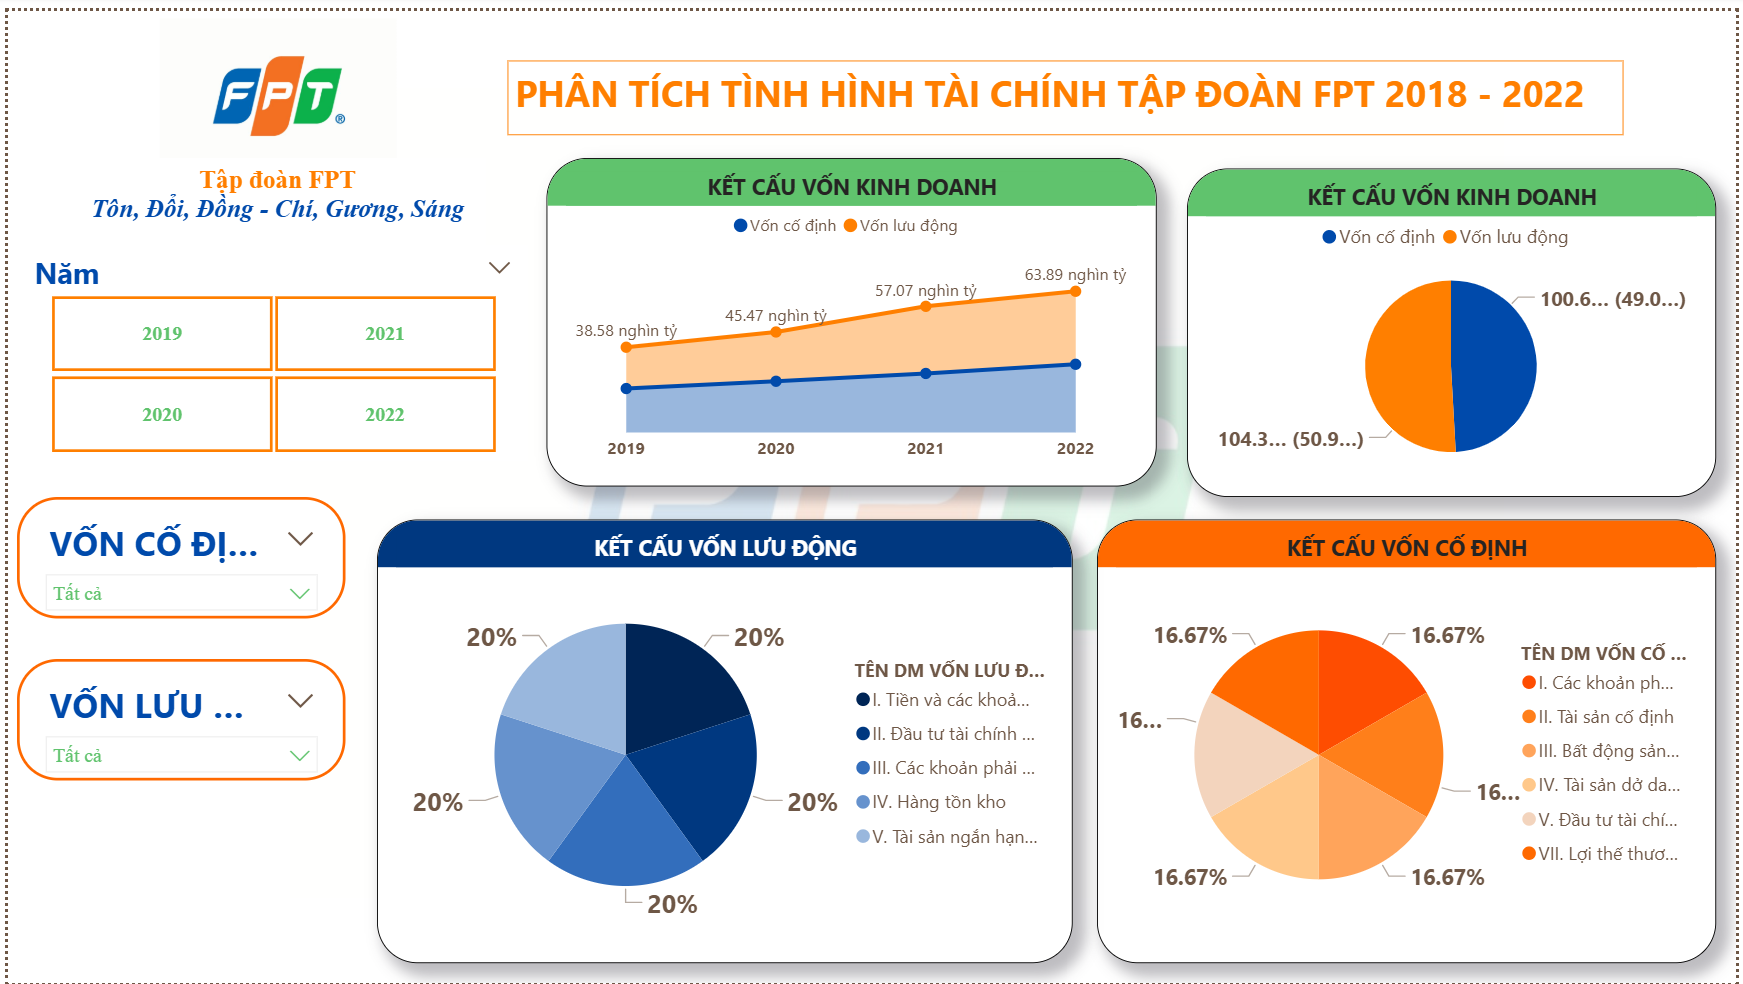

The dashboard page shown, as its layout file describes it:
{"tool":"powerbi","page":{"name":"Kết cấu","canvas":[1280,720],"ordinal":4},"visuals":[{"type":"stackedAreaChart","title":"KẾT CẤU VỐN KINH DOANH","fields":{"Category":["HQSDVKD.Năm"],"Y":["Sum(HQSDVCD.Vốn cố định bình quân)","Sum(HQSDVLD.Vốn lưu động bình quân)"]},"box":[398.3,108.3,451.7,243.3],"z":0},{"type":"image","box":[74.6,0,250.8,127.1],"z":1000},{"type":"textbox","box":[45.8,108.5,308.5,64.4],"z":2000},{"type":"pieChart","title":"KẾT CẤU VỐN KINH DOANH","fields":{"Y":["Sum(HQSDVCD.Vốn cố định bình quân)","Sum(HQSDVLD.Vốn lưu động bình quân)"]},"box":[873.3,116.7,391.7,243.3],"z":3000},{"type":"pieChart","title":"KẾT CẤU VỐN CỐ ĐỊNH","fields":{"Y":["Sum(HQSDVCD.Vốn cố định bình quân)"],"Category":["DMVONCODINH.TÊN DM VỐN CỐ ĐỊNH"]},"box":[806.7,376.7,458.3,328.3],"z":4000},{"type":"slicer","fields":{"Values":["HQSDVLD.Năm"]},"box":[6.7,173.3,378.3,160],"z":5000},{"type":"textbox","box":[370,36.7,826.7,55],"z":6000},{"type":"pieChart","title":"KẾT CẤU VỐN LƯU ĐỘNG","fields":{"Y":["Sum(HQSDVLD.Vốn lưu động bình quân)"],"Category":["DMVONLUUDONG.TÊN DM VỐN LƯU ĐỘNG"]},"box":[273.3,376.7,515,328.3],"z":7000},{"type":"slicer","fields":{"Values":["DMVONCODINH.TÊN DM VỐN CỐ ĐỊNH"]},"box":[6.7,360,243.3,90],"z":8000},{"type":"slicer","fields":{"Values":["DMVONLUUDONG.TÊN DM VỐN LƯU ĐỘNG"]},"box":[6.7,480,243.3,90],"z":9000}]}

Visuals, with their boxes in screenshot pixels (x1, y1, x2, y2), scaled from the page's 1280x720 canvas onto the 1743x984 screenshot:
"KẾT CẤU VỐN KINH DOANH" stackedAreaChart: bbox=(542, 148, 1157, 481)
image: bbox=(102, 0, 443, 174)
textbox: bbox=(62, 148, 482, 236)
"KẾT CẤU VỐN KINH DOANH" pieChart: bbox=(1189, 159, 1723, 492)
"KẾT CẤU VỐN CỐ ĐỊNH" pieChart: bbox=(1098, 515, 1723, 964)
slicer - HQSDVLD.Năm: bbox=(9, 237, 524, 456)
textbox: bbox=(504, 50, 1630, 125)
"KẾT CẤU VỐN LƯU ĐỘNG" pieChart: bbox=(372, 515, 1073, 964)
slicer - DMVONCODINH.TÊN DM VỐN CỐ ĐỊNH: bbox=(9, 492, 340, 615)
slicer - DMVONLUUDONG.TÊN DM VỐN LƯU ĐỘNG: bbox=(9, 656, 340, 779)
